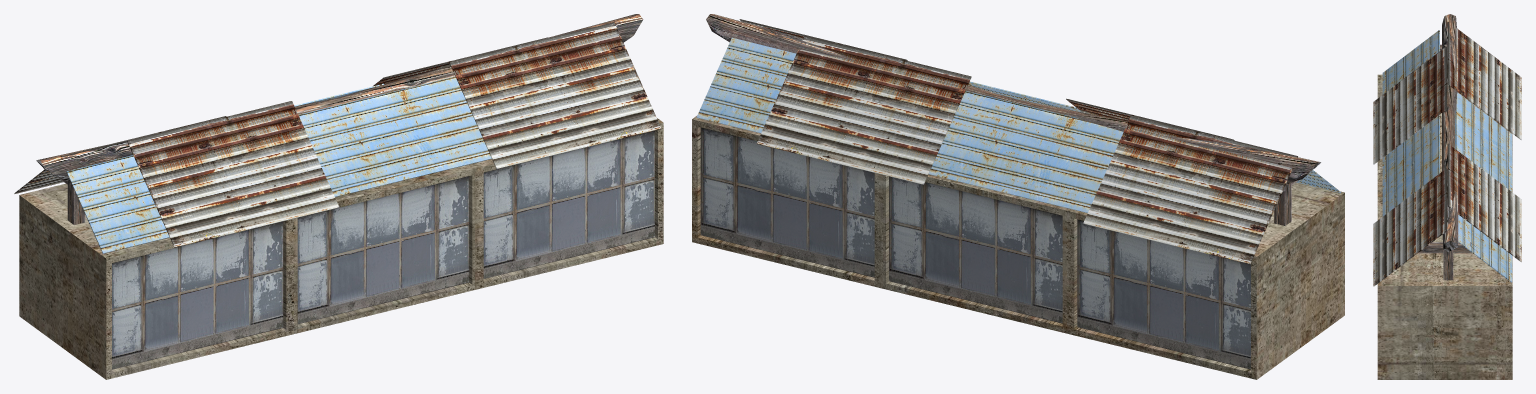
Rendered from building_connector_01.fbx.
The picture shows the model from 3 angles, left to right: view 1: azimuth 30°, elevation 25°; view 2: azimuth 150°, elevation 25°; view 3: azimuth 270°, elevation 25°; orthographic projection. The views are drawn at different scales.
Parts seen in each view (by area): view 1: building_connector_01; view 2: building_connector_01; view 3: building_connector_01.
Boxes of the visible parts, x1,y1,x2,y2 form: building_connector_01: (14,14,663,379); building_connector_01: (692,14,1344,379); building_connector_01: (1373,14,1521,379).
Size of the model in its own units: 10.35 by 3.14 by 2.85.
